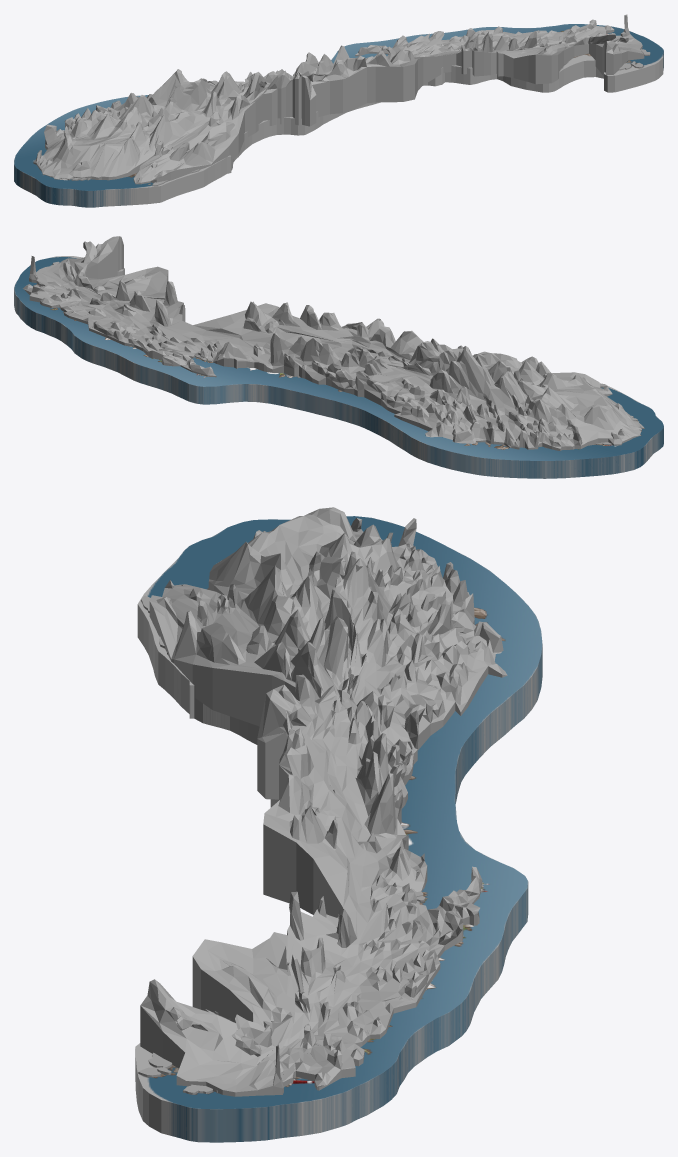
Rendered from MapNorvegian.fbx.
3 renders of one model, top to bottom at view 1: azimuth 30°, elevation 25°; view 2: azimuth 150°, elevation 25°; view 3: azimuth 270°, elevation 25°, orthographic. The views are drawn at different scales.
Parts seen in each view (by area): view 1: Mountanes_01, Water, Ground; view 2: Mountanes_01, Water; view 3: Mountanes_01, Water, Ground.
Boxes of the visible parts, x1,y1,x2,y2 form: Mountanes_01: (33,14,644,184); Water: (14,24,663,207); Ground: (50,48,650,186); Mountanes_01: (23,236,644,450); Water: (14,256,663,478); Mountanes_01: (140,507,507,1096); Water: (135,516,542,1142); Ground: (138,595,425,1094).
Size of the model in its own units: 0.9337 by 0.1106 by 0.2708.
